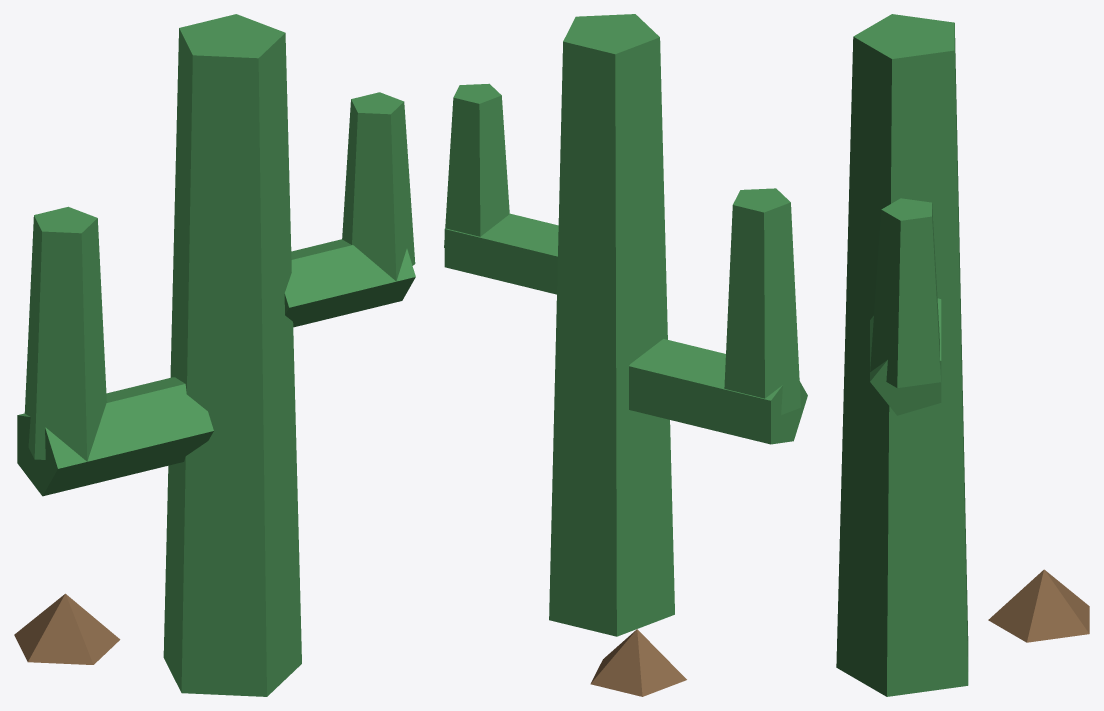
File: mandacaru.glb
3 views of the same model, side by side, from view 1: azimuth 30°, elevation 25°; view 2: azimuth 150°, elevation 25°; view 3: azimuth 270°, elevation 25° (orthographic). The views are drawn at different scales.
Visible parts, largest first — view 1: corpo; view 2: corpo; view 3: corpo.
Boxes of the visible parts, box(x1,y1,x2,y2) form: corpo: box(14, 14, 415, 696); corpo: box(444, 14, 807, 696); corpo: box(836, 14, 1089, 696).
Bounding box in the file's own units: 0.3913 × 0.62 × 0.2255.
